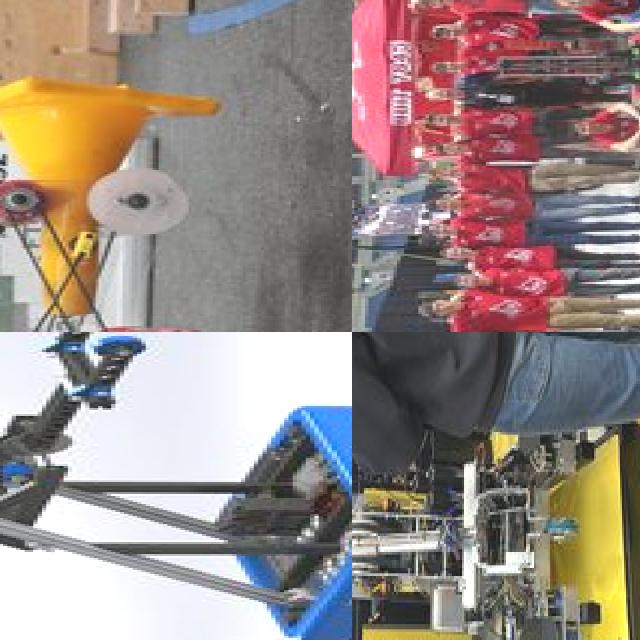FRC-Robots: (0, 332, 352, 640), (0, 29, 352, 332), (352, 341, 635, 640), (487, 5, 640, 109)
